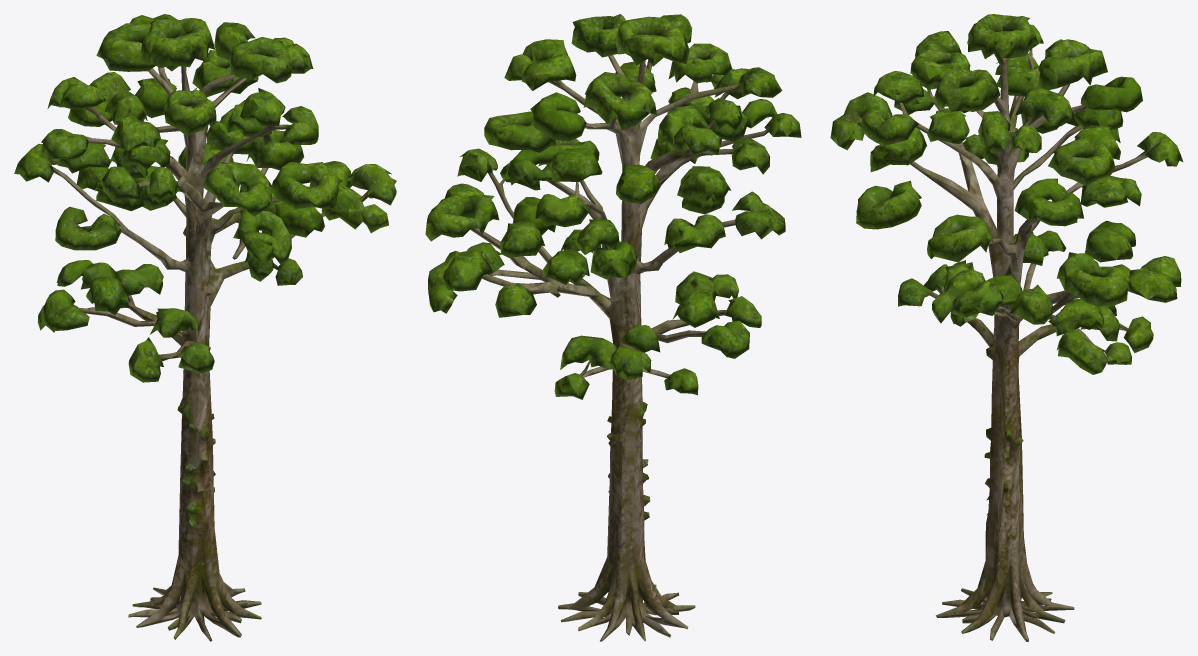
The model's file is VEG_ArbolTropical_03_LOD1.fbx.
3 views of the same model, side by side, from view 1: azimuth 30°, elevation 25°; view 2: azimuth 150°, elevation 25°; view 3: azimuth 270°, elevation 25° (orthographic). The views are drawn at different scales.
Visible parts, largest first — view 1: VEG_ArbolTropical_03_Mesh000; view 2: VEG_ArbolTropical_03_Mesh000; view 3: VEG_ArbolTropical_03_Mesh000.
Boxes of the visible parts, x1=… form: VEG_ArbolTropical_03_Mesh000: x1=14, y1=14, x2=396, y2=641; VEG_ArbolTropical_03_Mesh000: x1=425, y1=14, x2=801, y2=641; VEG_ArbolTropical_03_Mesh000: x1=830, y1=14, x2=1183, y2=641.
Size of the model in its own units: 11.04 by 19 by 10.45.
